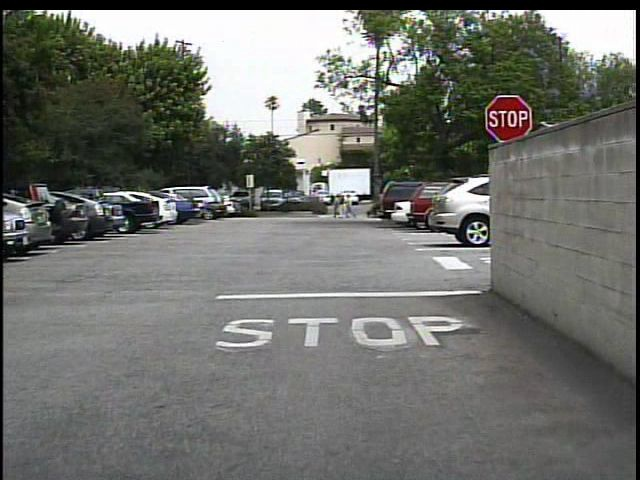person: (345, 194, 359, 222), (330, 192, 344, 219)
